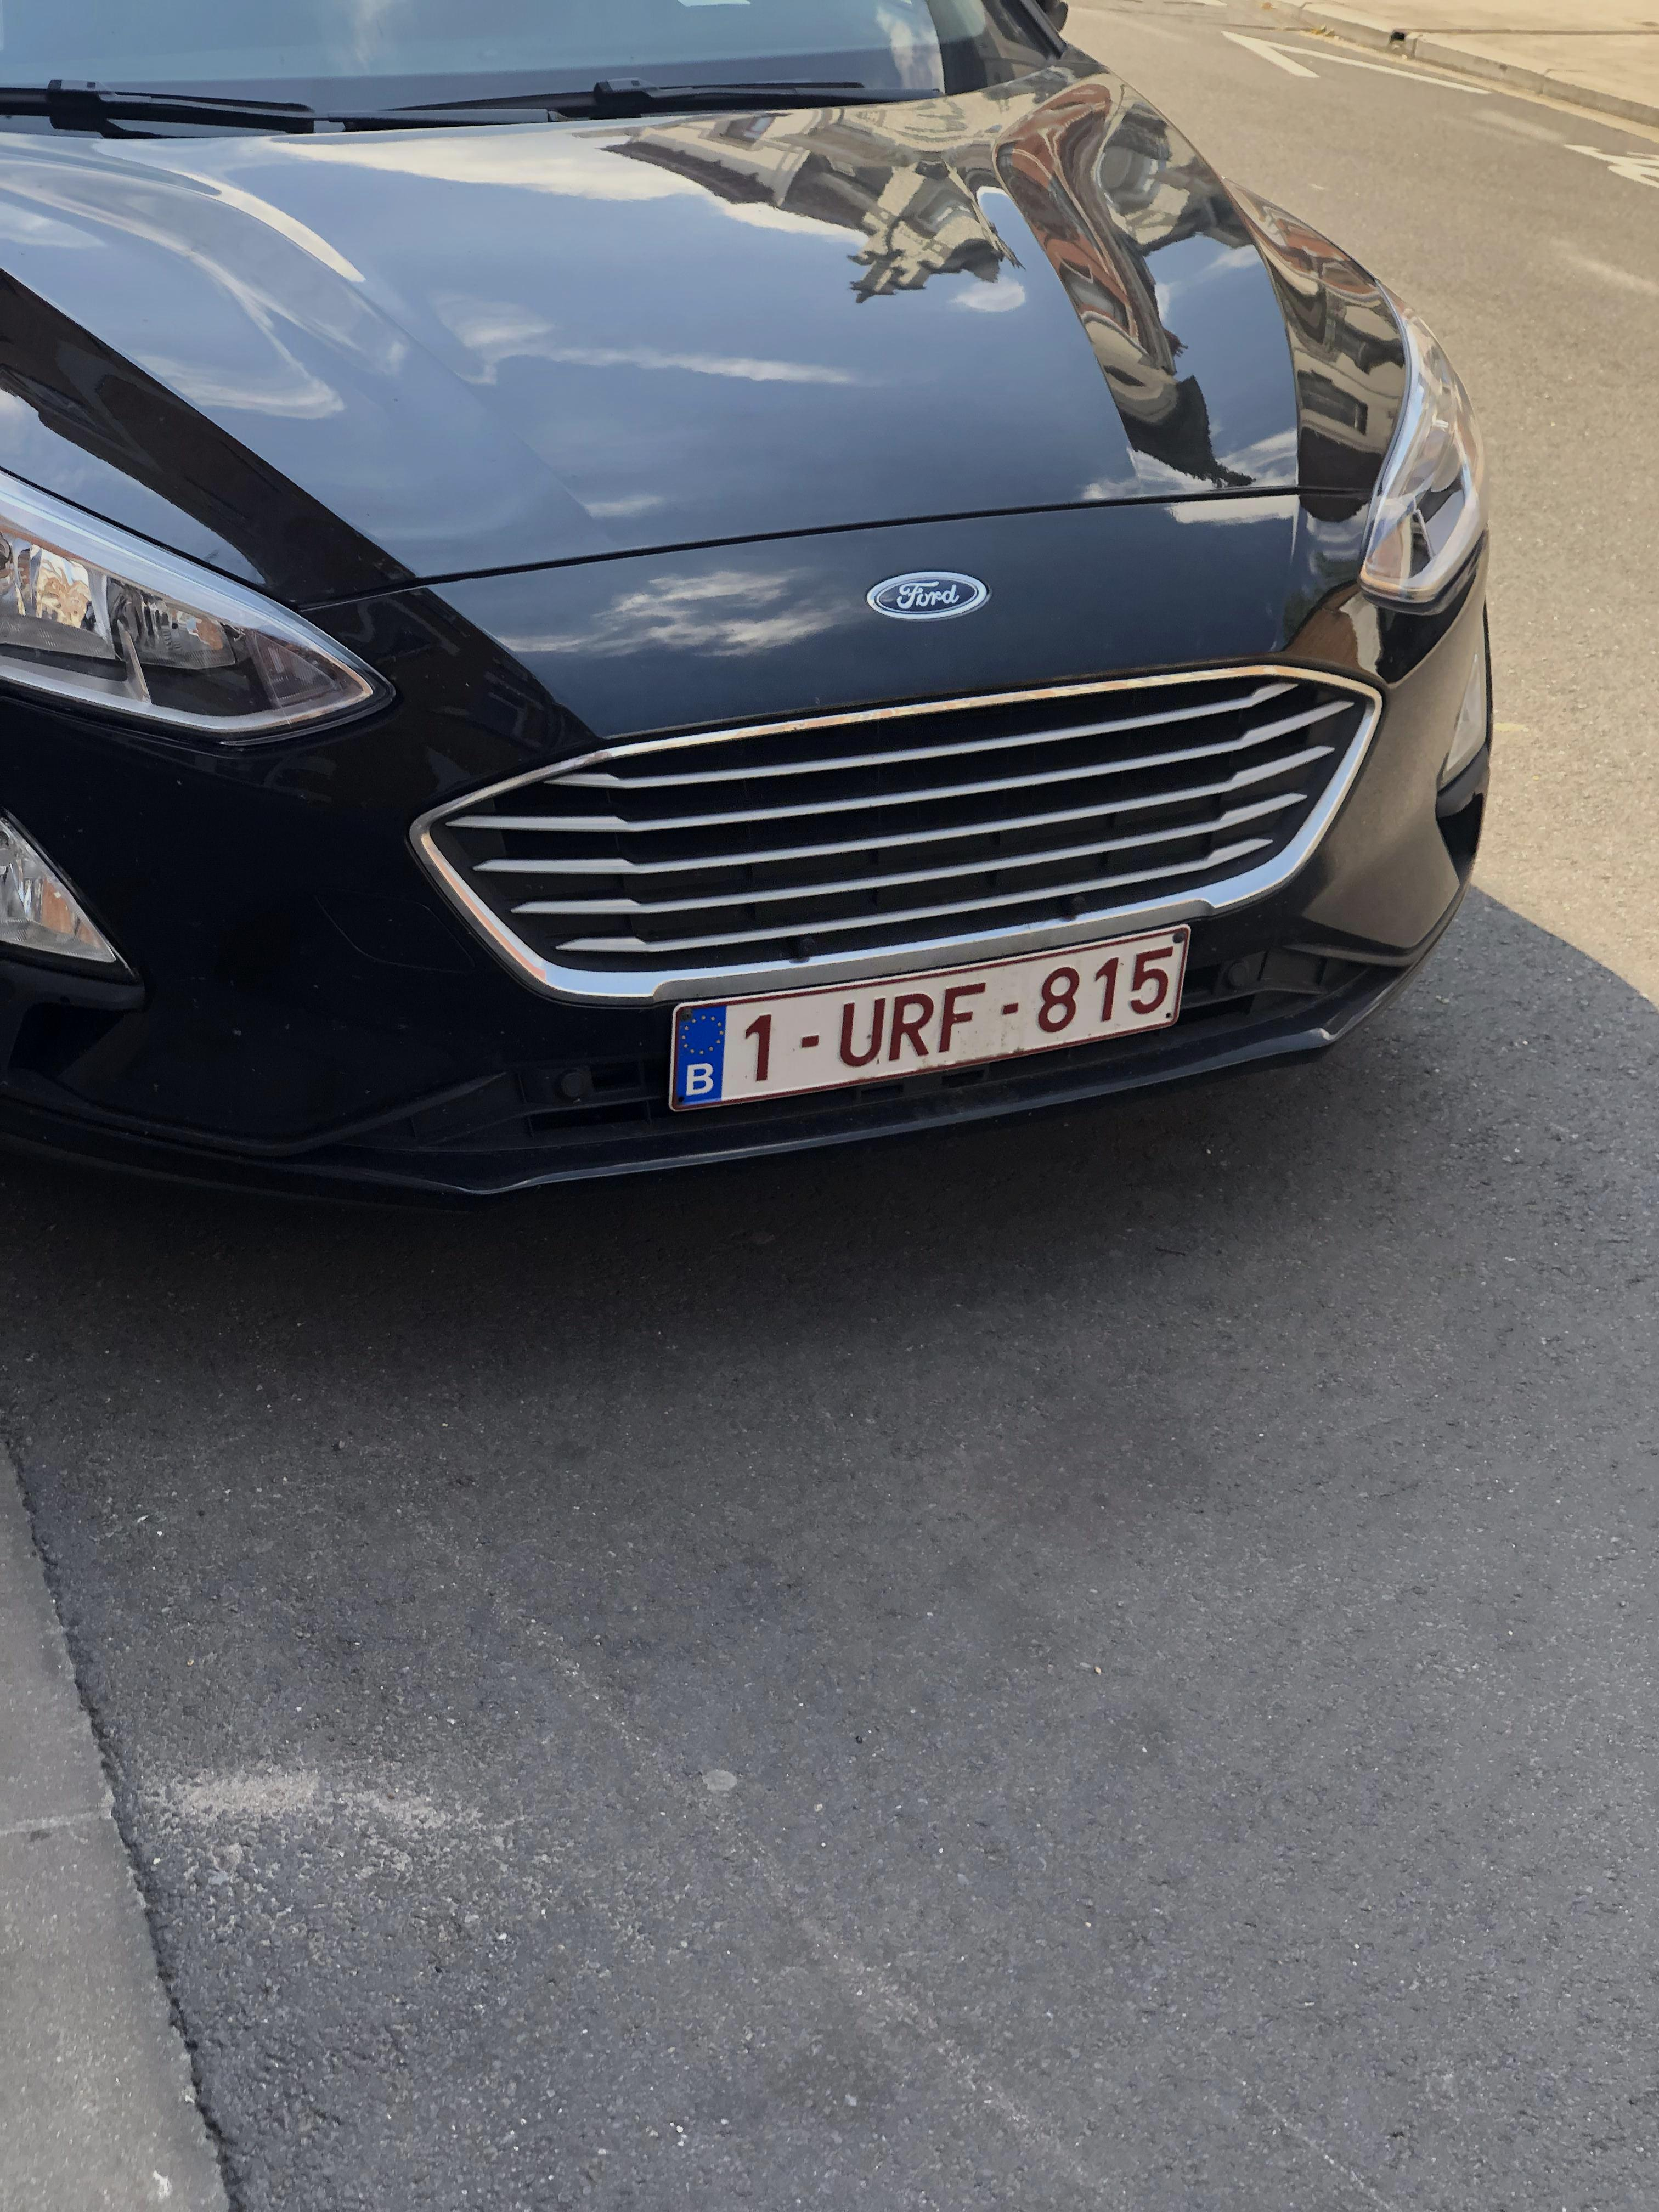plate: (641, 899, 1207, 1139)
